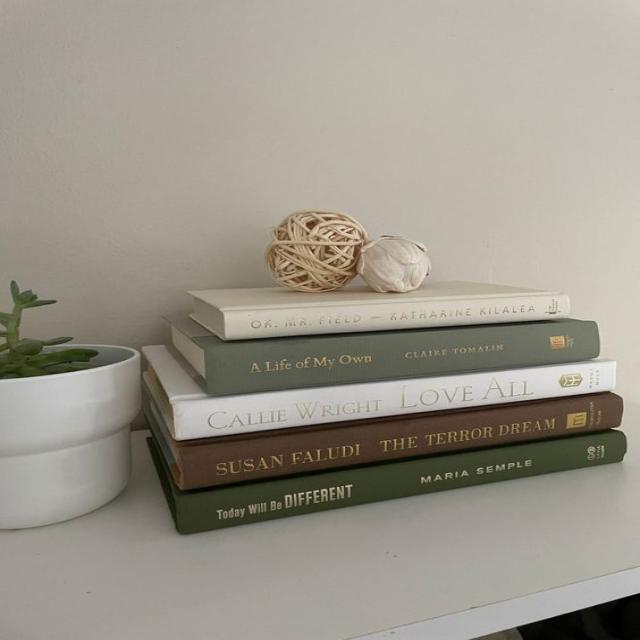book: (176, 433, 621, 536), (176, 397, 617, 492), (169, 358, 616, 441), (205, 321, 602, 394), (223, 294, 570, 339)
